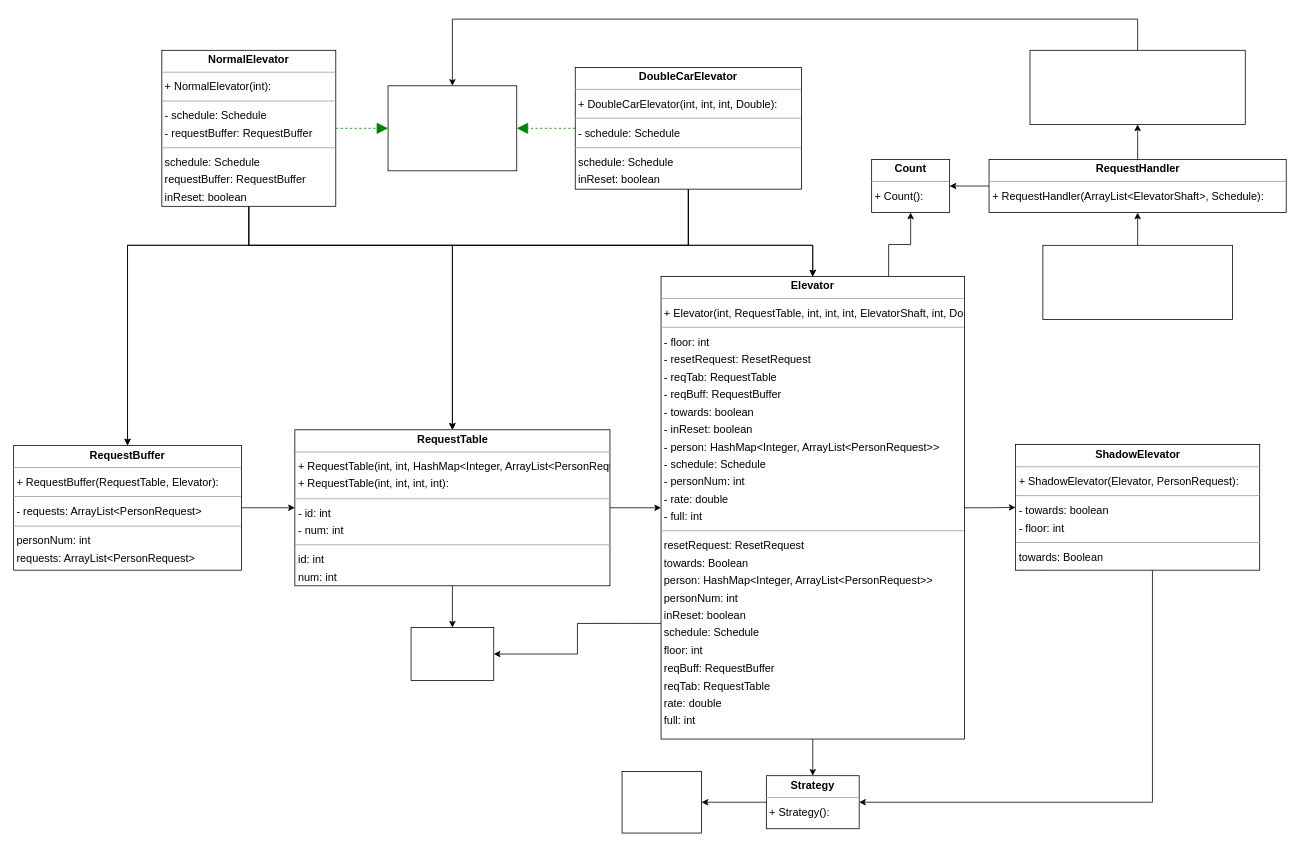
Image size: 1300x847. Some labels were removed from this diagram. Each missing label, with the centre of its shape:
<<enumeration>> Action + Action():: (661,802)
<<interface>> ElevatorShaft schedule: Schedule inReset: boolean: (452,128)
Main + Main(): requestHandler: RequestHandler: (1137,282)
OutPut + OutPut():: (452,654)
Schedule + Schedule(ArrayList<ElevatorShaft>): one: PersonRequest: (1137,87)
